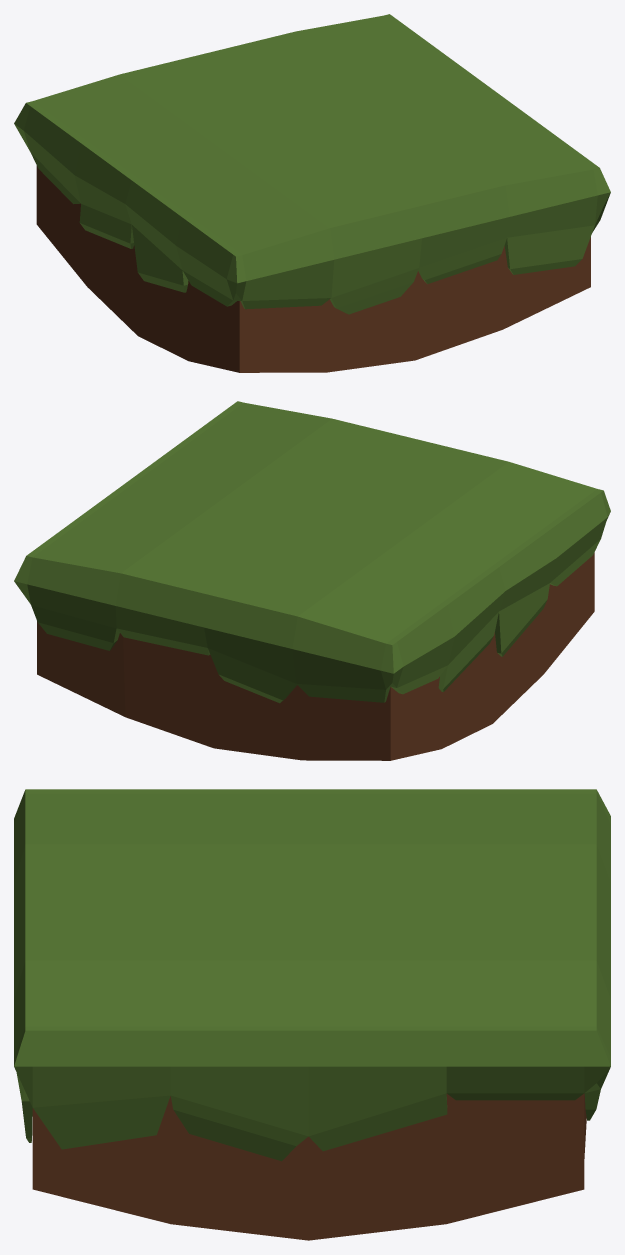
Rendered from GrassBlock(FP).fbx.
The picture shows the model from 3 angles, top to bottom: view 1: azimuth 30°, elevation 25°; view 2: azimuth 150°, elevation 25°; view 3: azimuth 270°, elevation 25°; orthographic projection. The views are drawn at different scales.
Visible parts, largest first — view 1: Floating Platform; view 2: Floating Platform; view 3: Floating Platform.
Boxes of the visible parts, bbox=[...] form: Floating Platform: bbox=[14, 14, 610, 372]; Floating Platform: bbox=[14, 401, 610, 760]; Floating Platform: bbox=[14, 789, 610, 1240].
Size of the model in its own units: 430 by 210 by 433.
